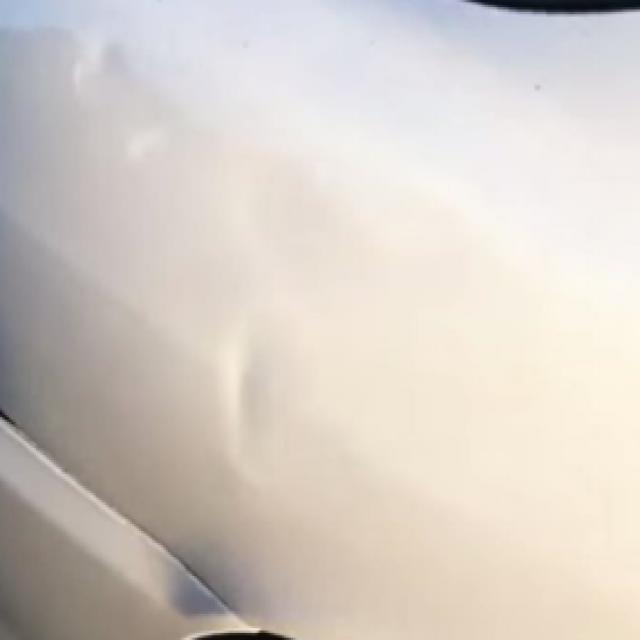dents: (192, 330, 314, 520), (62, 40, 148, 128)
